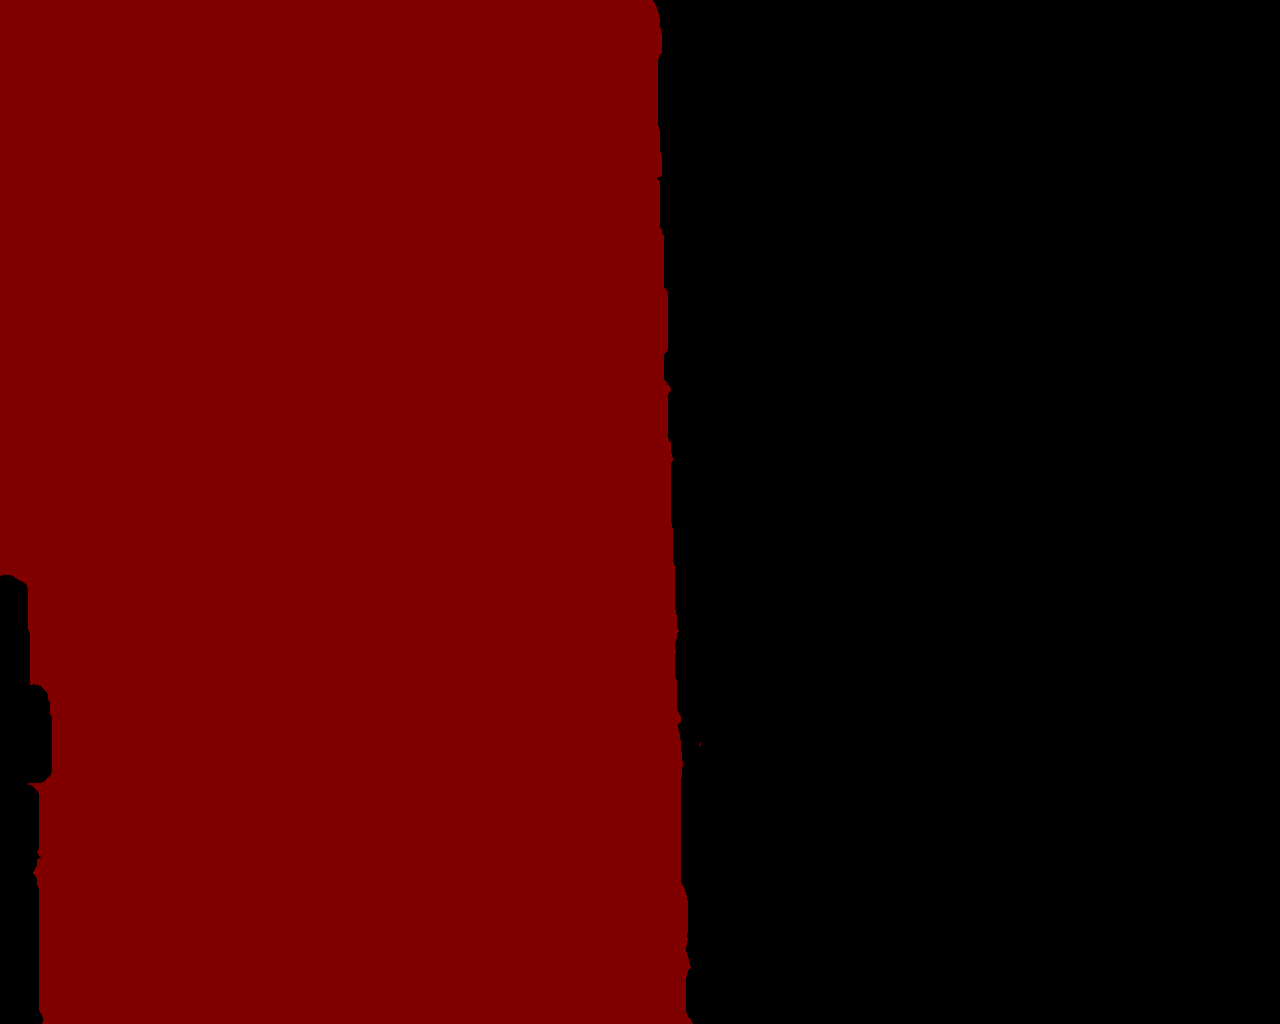Sky: (1, 1, 700, 1023)
